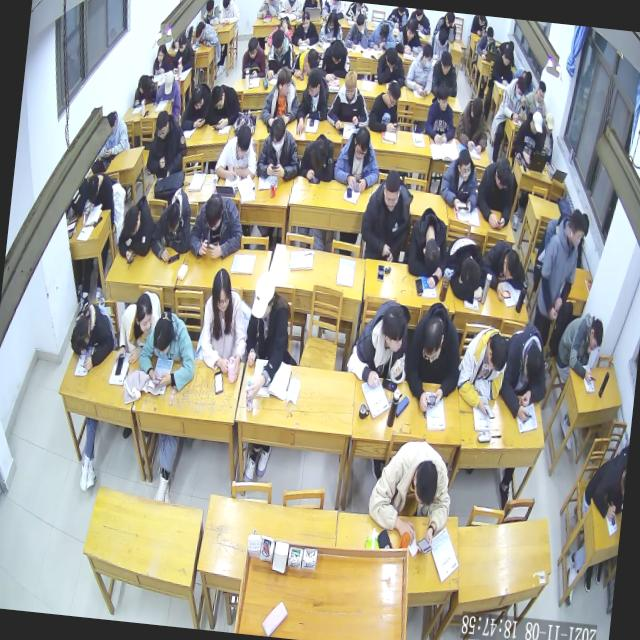bow: (500, 318, 552, 421), (136, 307, 200, 390), (186, 188, 246, 260), (66, 299, 118, 372), (404, 206, 450, 287), (150, 186, 194, 264), (478, 238, 530, 302), (441, 232, 487, 304), (114, 191, 156, 262), (298, 130, 338, 180), (207, 80, 243, 130), (180, 80, 212, 134), (316, 37, 352, 82), (374, 44, 408, 88), (394, 14, 424, 56), (290, 46, 320, 80), (368, 16, 398, 50), (132, 70, 158, 108), (193, 17, 223, 48), (266, 14, 294, 46), (199, 0, 220, 26), (383, 46, 398, 69), (404, 16, 416, 40)
down: (411, 459, 438, 505), (251, 270, 276, 317), (421, 316, 445, 362), (210, 266, 232, 312), (522, 342, 546, 383), (486, 330, 510, 370), (68, 314, 92, 352), (150, 315, 174, 353), (202, 192, 224, 230), (566, 207, 585, 247), (381, 170, 401, 207), (234, 122, 252, 160), (122, 205, 142, 238), (268, 116, 286, 152), (352, 126, 371, 160), (309, 138, 328, 170), (162, 201, 180, 234), (502, 247, 520, 279), (494, 158, 512, 190), (455, 146, 472, 179), (588, 317, 604, 352), (384, 78, 401, 108), (306, 66, 322, 96), (154, 108, 170, 137), (342, 70, 357, 100), (86, 174, 100, 202), (210, 84, 226, 108), (190, 82, 204, 109), (530, 108, 544, 134), (329, 40, 344, 64), (304, 46, 318, 70), (470, 95, 483, 120), (270, 27, 284, 50), (436, 84, 449, 108), (439, 51, 452, 75), (514, 74, 526, 100), (104, 111, 116, 135), (163, 70, 174, 96), (544, 111, 556, 134), (437, 24, 448, 48), (246, 36, 258, 57), (300, 9, 311, 30), (536, 78, 546, 100), (194, 20, 205, 39), (278, 14, 290, 31), (355, 12, 365, 32), (138, 73, 148, 93), (502, 46, 512, 66), (378, 23, 389, 41), (326, 10, 336, 28), (484, 26, 494, 44), (177, 34, 186, 53), (204, 0, 214, 15), (506, 38, 515, 54), (221, 0, 230, 8)
lookup: (156, 41, 166, 62)
sit: (364, 434, 456, 555), (239, 270, 296, 406), (399, 300, 465, 416), (532, 202, 586, 334), (343, 296, 412, 392), (198, 265, 254, 378), (358, 168, 414, 262), (454, 324, 509, 419), (554, 309, 604, 382), (332, 124, 384, 190), (254, 115, 303, 183), (324, 68, 374, 133), (475, 152, 516, 228), (146, 110, 190, 180), (114, 290, 154, 366), (213, 122, 260, 184), (438, 145, 482, 211), (259, 62, 301, 126), (295, 66, 331, 136), (454, 94, 492, 152), (423, 82, 458, 142), (368, 78, 402, 133), (404, 41, 436, 97), (512, 109, 544, 164), (100, 108, 132, 159), (265, 28, 295, 80), (429, 47, 460, 96), (500, 71, 530, 120), (84, 172, 116, 214), (240, 36, 268, 80), (290, 8, 322, 46), (170, 31, 196, 74), (154, 68, 182, 106), (344, 11, 371, 49), (490, 46, 515, 86), (524, 78, 550, 116), (538, 110, 556, 163), (317, 10, 344, 44), (428, 24, 452, 61), (476, 26, 498, 61), (152, 41, 172, 75), (218, 0, 242, 25)
